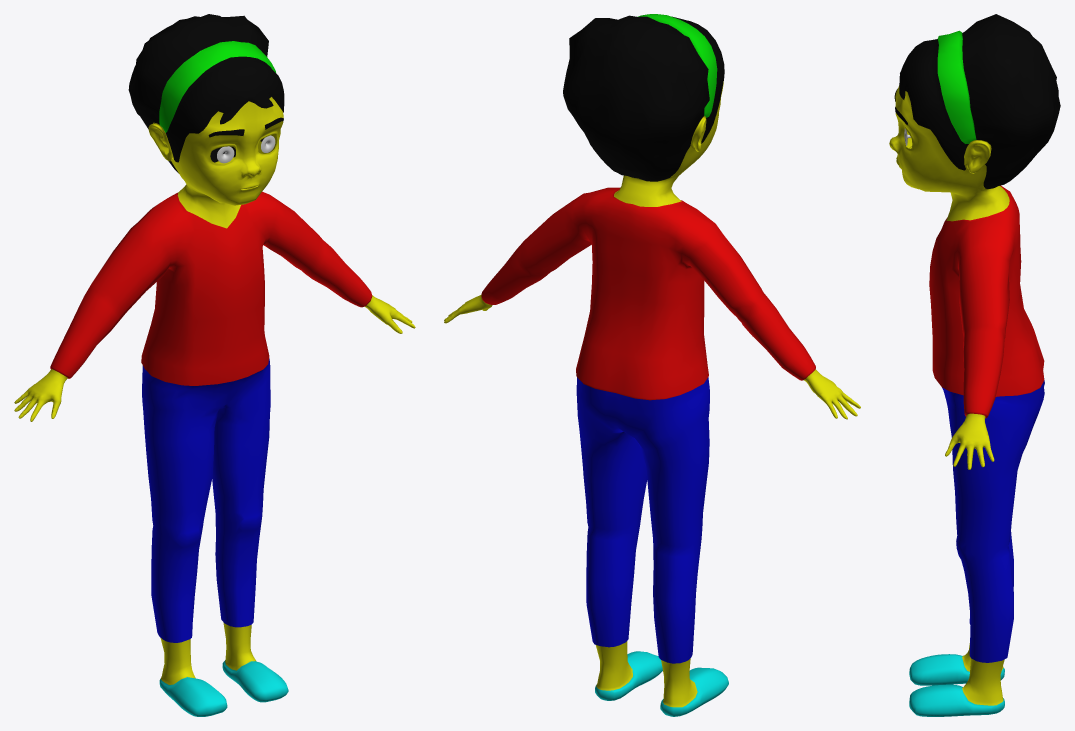
File: lowpoly.fbx
3 renders of one model, left to right at view 1: azimuth 30°, elevation 25°; view 2: azimuth 150°, elevation 25°; view 3: azimuth 270°, elevation 25°, orthographic. The views are drawn at different scales.
Visible parts, largest first — view 1: low_poly; view 2: low_poly; view 3: low_poly.
Part boxes in pixels (bbox=[...]): low_poly: bbox=[14, 14, 415, 716]; low_poly: bbox=[444, 14, 860, 716]; low_poly: bbox=[889, 14, 1060, 716].
Size of the model in its own units: 86.03 by 138 by 32.04.
